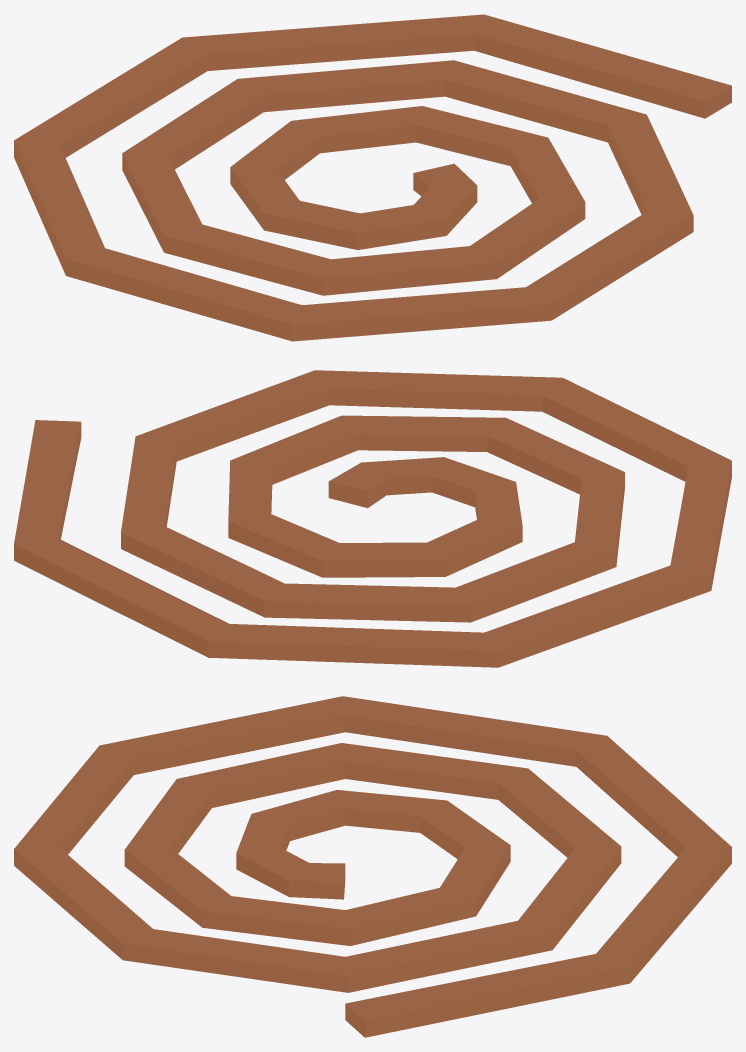
File: 012_mosquitoRepellent.gltf
The picture shows the model from 3 angles, top to bottom: view 1: azimuth 30°, elevation 25°; view 2: azimuth 150°, elevation 25°; view 3: azimuth 270°, elevation 25°; orthographic projection.
Visible parts, largest first — view 1: Plane; view 2: Plane; view 3: Plane.
Boxes of the visible parts, bbox=[...] form: Plane: bbox=[14, 14, 731, 341]; Plane: bbox=[14, 370, 731, 667]; Plane: bbox=[14, 696, 731, 1037].
Size of the model in its own units: 5.53 by 0.1324 by 5.16.
